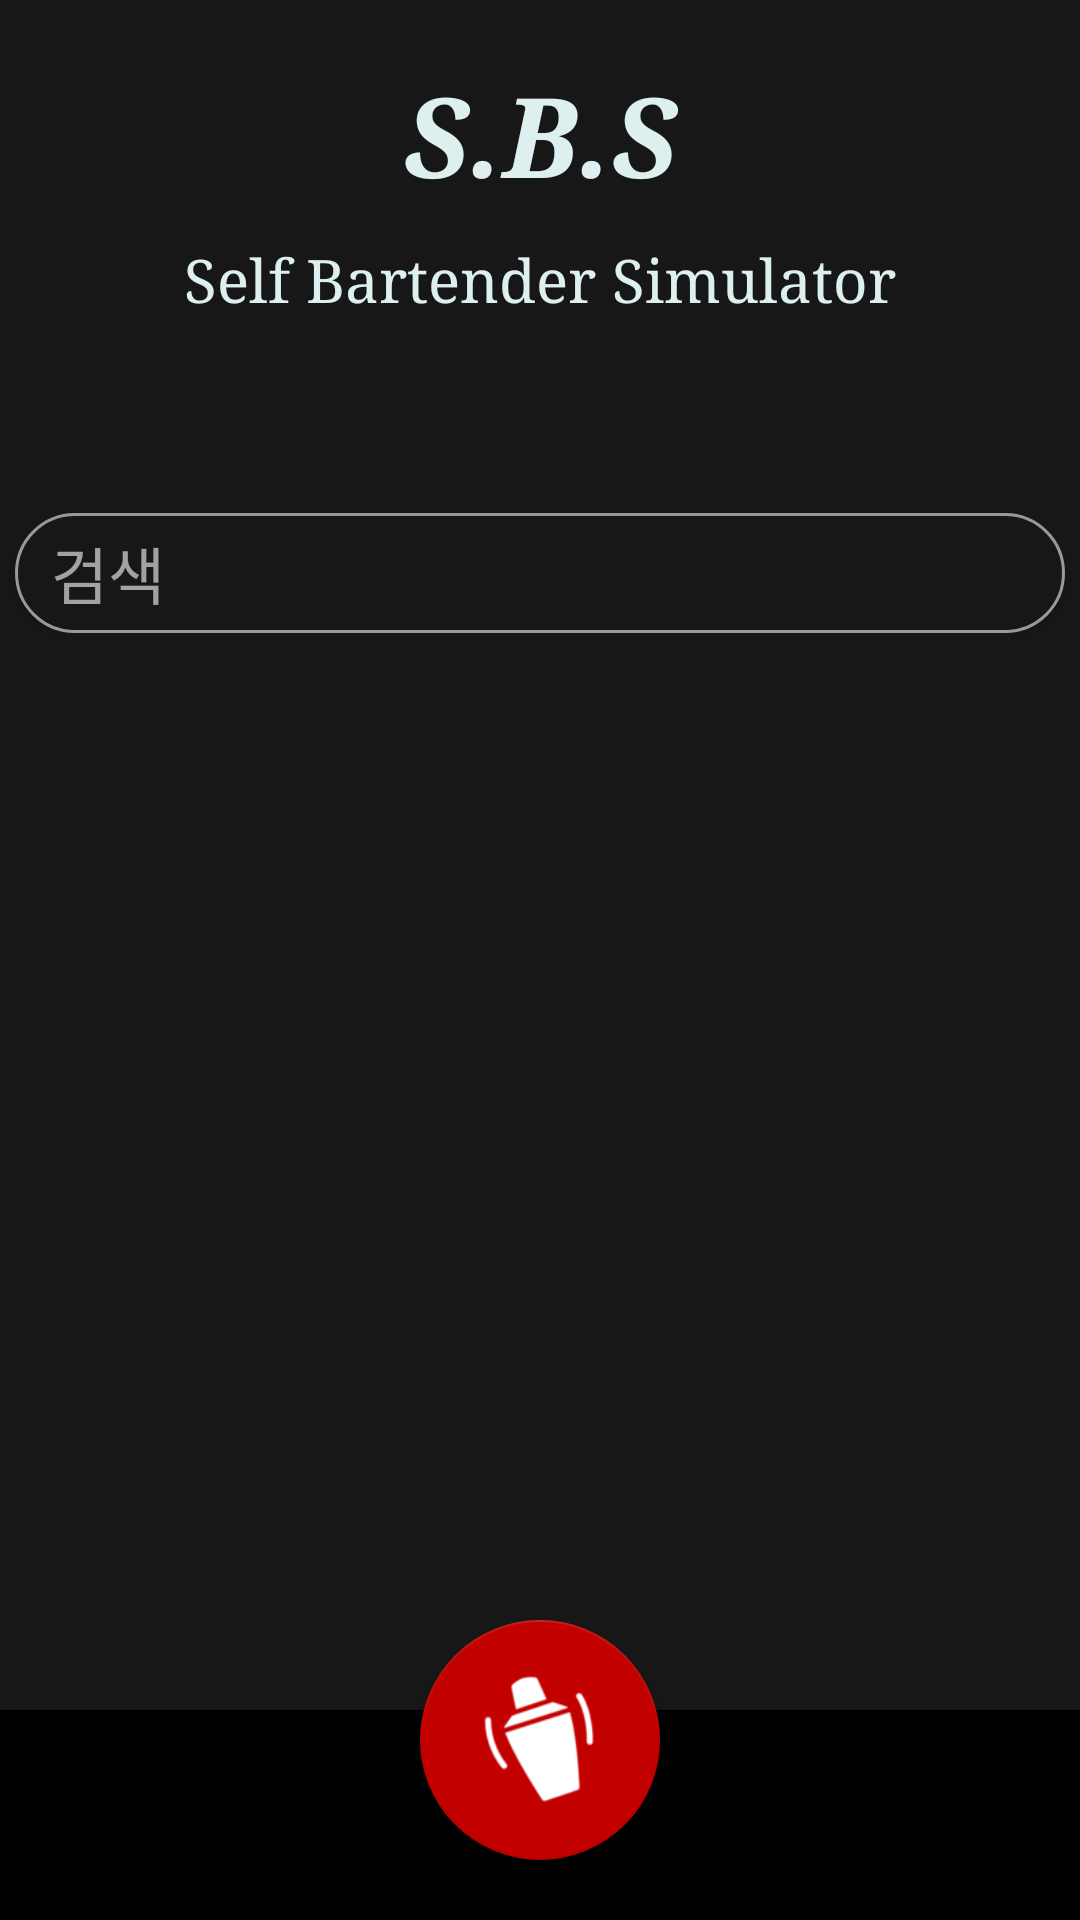

Icons on this 1080*1920 Android screen, each with the point to tap as point (x, y):
fab cocktail: point (540, 1740)
